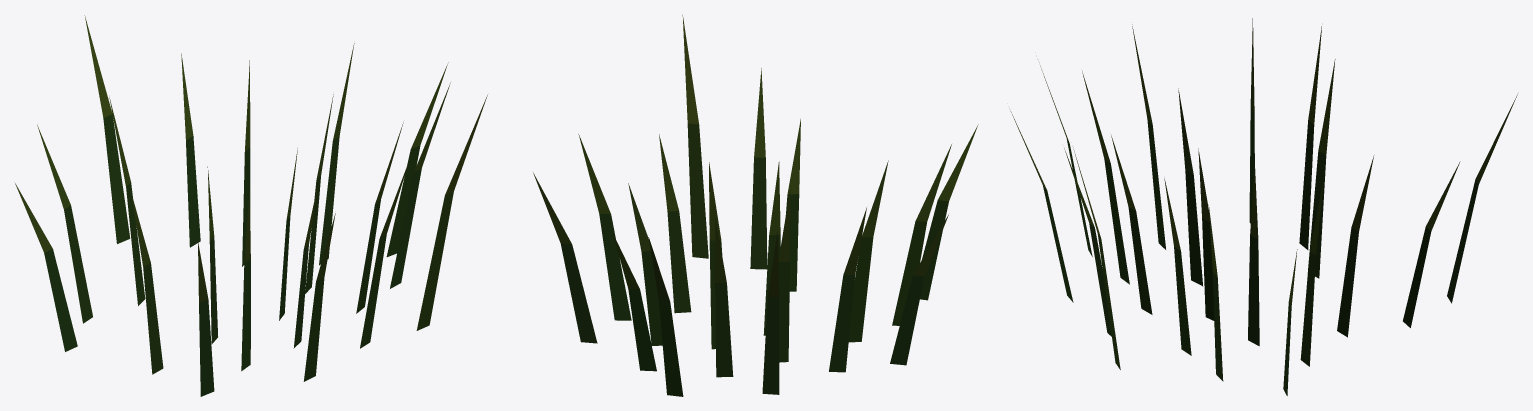
The model's file is reed_clump.glb.
3 renders of one model, left to right at view 1: azimuth 30°, elevation 25°; view 2: azimuth 150°, elevation 25°; view 3: azimuth 270°, elevation 25°, orthographic. The views are drawn at different scales.
Visible parts, largest first — view 1: reed_clump; view 2: reed_clump; view 3: reed_clump.
Part boxes in pixels (x1,y1,x2,y2): reed_clump: (15,15,487,396); reed_clump: (533,15,978,396); reed_clump: (1010,18,1517,395).
Size of the model in its own units: 2.8 by 1.42 by 2.69.
